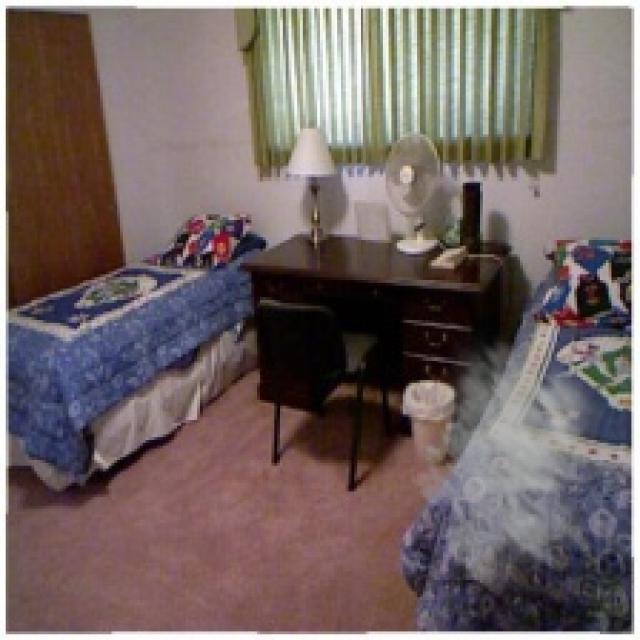smoke: (408, 326, 628, 606)
